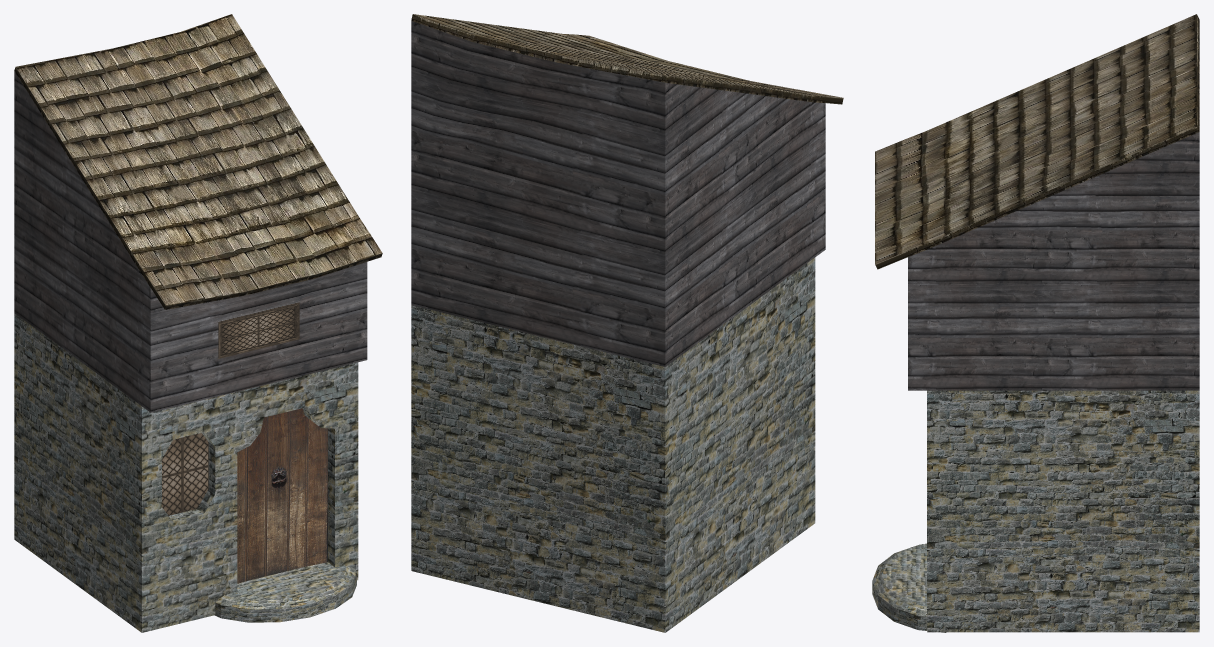
The model's file is v3_house4_LOD1.dae.
3 renders of one model, left to right at view 1: azimuth 30°, elevation 25°; view 2: azimuth 150°, elevation 25°; view 3: azimuth 270°, elevation 25°, orthographic. The views are drawn at different scales.
Parts seen in each view (by area): view 1: bricks_old08, roof_01, wood_planks, doorwindow_set; view 2: bricks_old08, wood_planks, roof_01; view 3: bricks_old08, wood_planks, roof_01.
Part boxes in pixels (<box>): bricks_old08: <box>14,313,358,632</box>; roof_01: <box>14,14,382,309</box>; wood_planks: <box>14,71,367,412</box>; doorwindow_set: <box>161,302,327,583</box>; bricks_old08: <box>411,257,815,632</box>; wood_planks: <box>411,21,825,366</box>; roof_01: <box>411,14,843,104</box>; bricks_old08: <box>872,390,1199,632</box>; wood_planks: <box>908,132,1199,390</box>; roof_01: <box>875,14,1199,269</box>.
Bounding box in the file's own units: 2.64 × 5.53 × 3.24.
